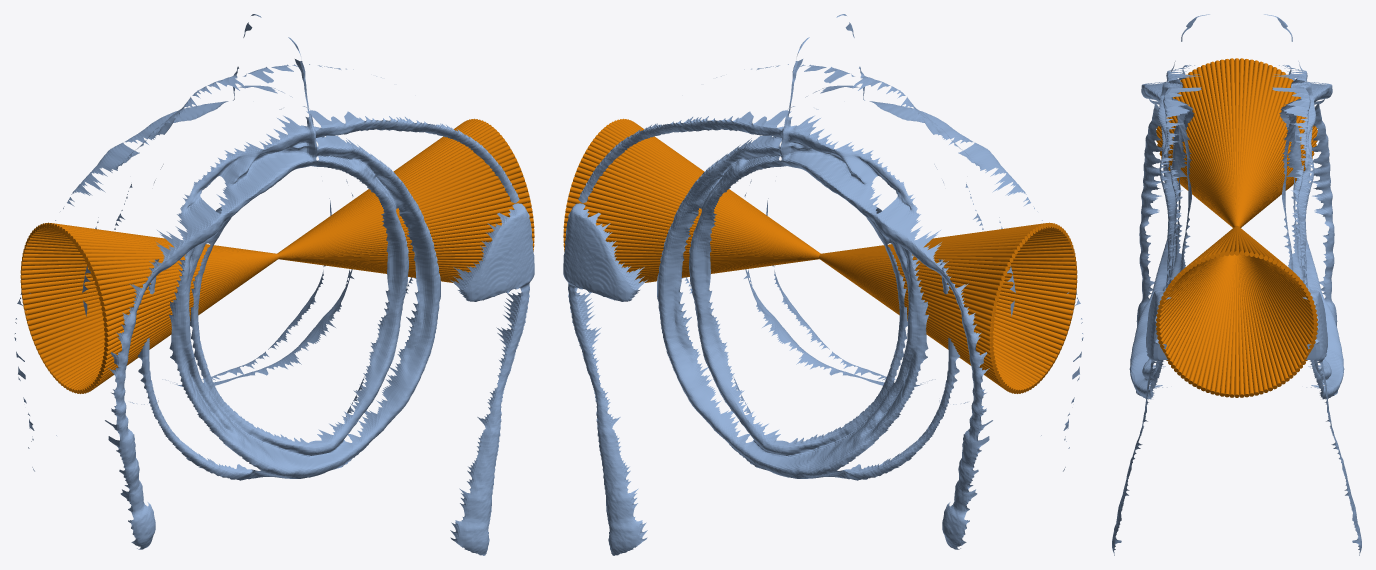
Rendered from A20023508_6145-37-530-7662_DigitalTwin.glb.
The picture shows the model from 3 angles, left to right: view 1: azimuth 30°, elevation 25°; view 2: azimuth 150°, elevation 25°; view 3: azimuth 270°, elevation 25°; orthographic projection. The views are drawn at different scales.
Parts seen in each view (by area): view 1: world; view 2: world; view 3: world.
Boxes of the visible parts, x1,y1,x2,y2 form: world: [14, 14, 534, 555]; world: [563, 14, 1083, 555]; world: [1112, 14, 1361, 555].
Size of the model in its own units: 376 by 430 by 205.
